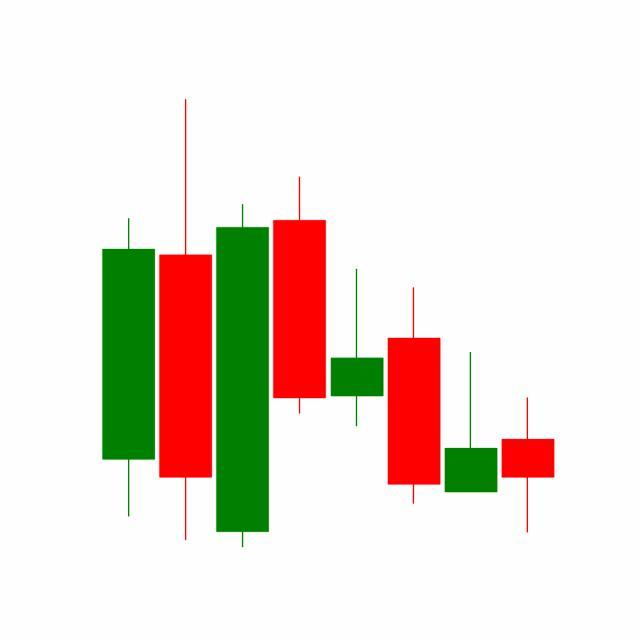Hikkake Pattern: (270, 173, 555, 537)
